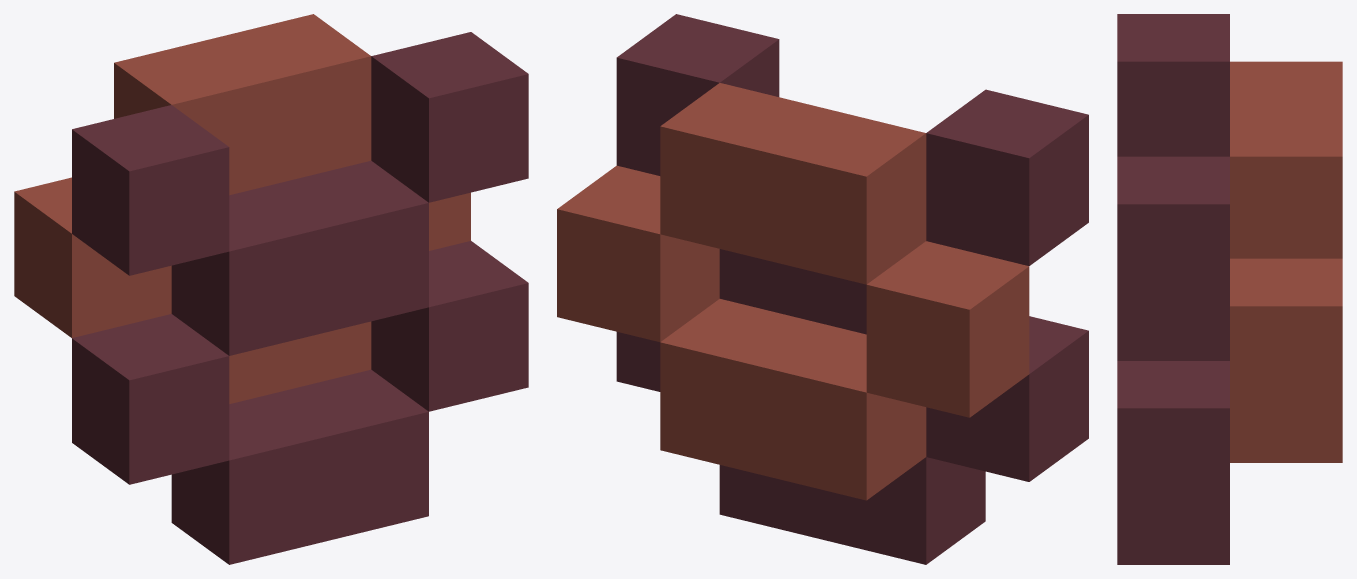
The model's file is NB_TR_F_Braid_Test_3.fbx.
The picture shows the model from 3 angles, left to right: view 1: azimuth 30°, elevation 25°; view 2: azimuth 150°, elevation 25°; view 3: azimuth 270°, elevation 25°; orthographic projection. The views are drawn at different scales.
Visible parts, largest first — view 1: Braid_Test_3; view 2: Braid_Test_3; view 3: Braid_Test_3.
Part boxes in pixels (x1,y1,x2,y2): Braid_Test_3: (14, 14, 528, 564); Braid_Test_3: (557, 14, 1088, 564); Braid_Test_3: (1117, 14, 1342, 564).
Size of the model in its own units: 4 by 4 by 2.
Materials: 1 (1 with a texture image).
